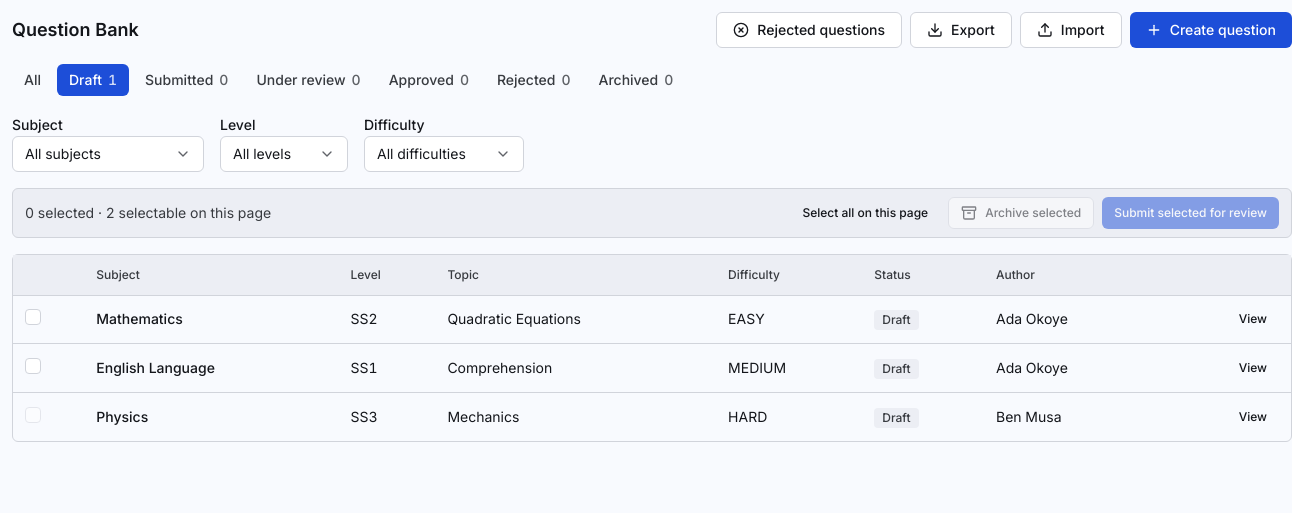
Test case: QuestionBankScreen › F9 bulk submit: a thrown request-level error shows an inline alert
Click the button "Select all on this page" at (865,213), box [790,197,940,229]
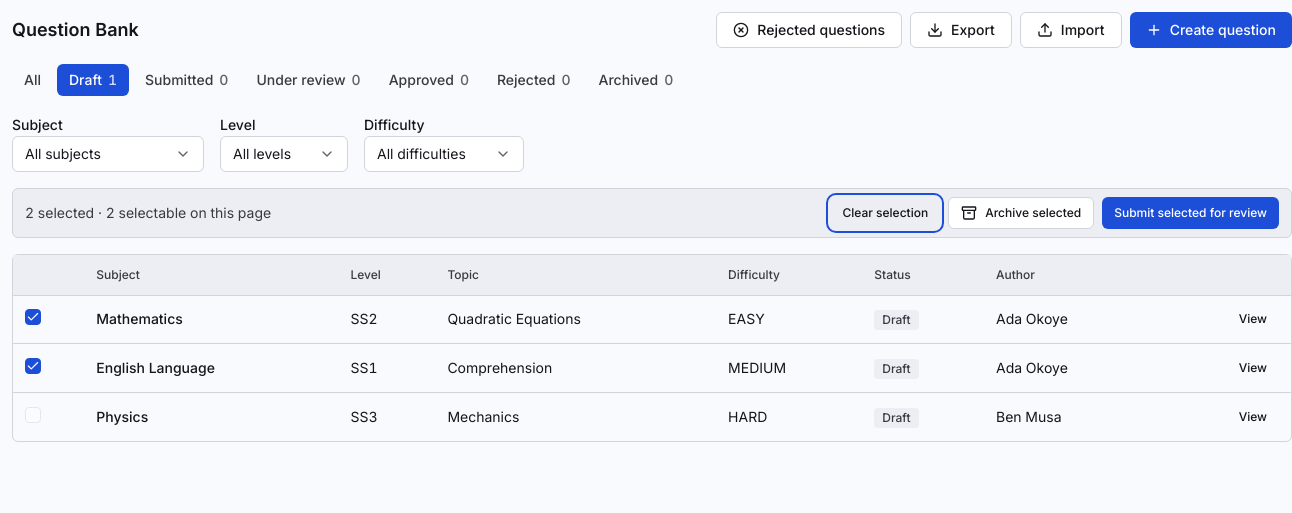
Click the button "Submit selected for review" at (1191,213), box [1102,197,1279,229]
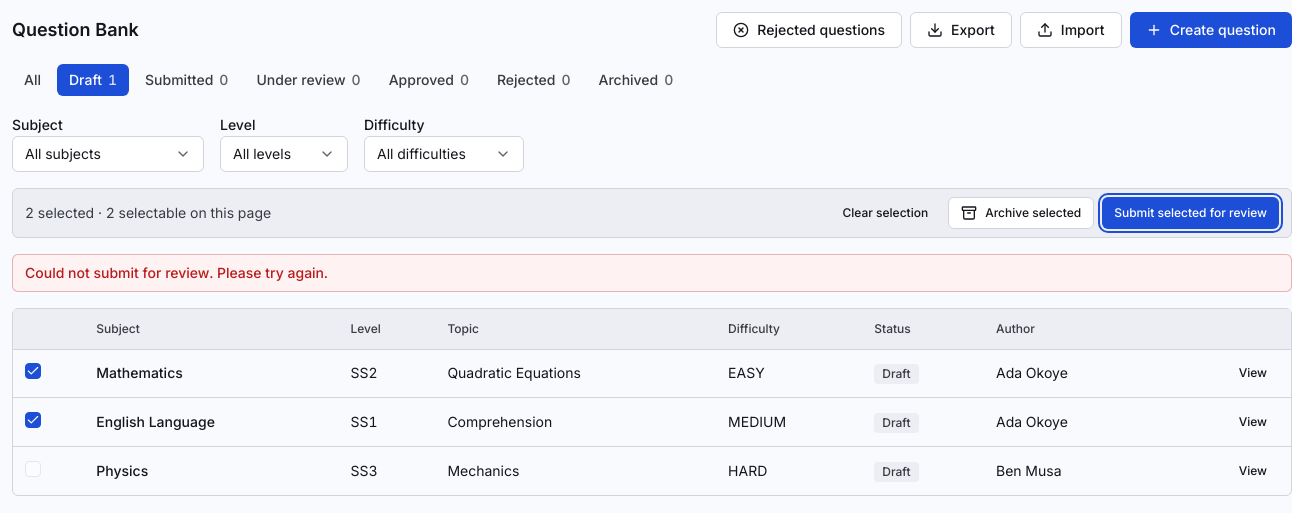
Expected: the message reads "Could not submit for review. Please try again.", [25,264,328,281]
